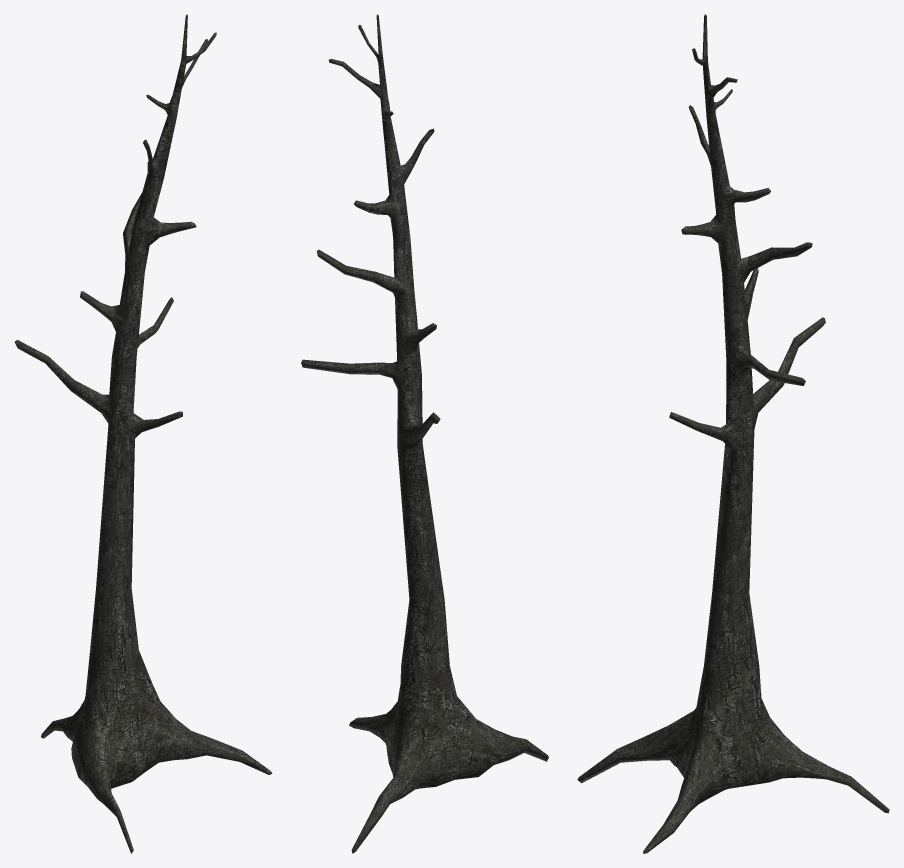
The model's file is DeadTree01.FBX.
3 views of the same model, side by side, from view 1: azimuth 30°, elevation 25°; view 2: azimuth 150°, elevation 25°; view 3: azimuth 270°, elevation 25° (orthographic). The views are drawn at different scales.
Visible parts, largest first — view 1: TreeDead01:0; view 2: TreeDead01:0; view 3: TreeDead01:0.
Boxes of the visible parts, x1=… form: TreeDead01:0: x1=14, y1=14, x2=272, y2=853; TreeDead01:0: x1=301, y1=14, x2=548, y2=853; TreeDead01:0: x1=577, y1=14, x2=889, y2=853.
Size of the model in its own units: 0.8808 by 3.73 by 1.27.
